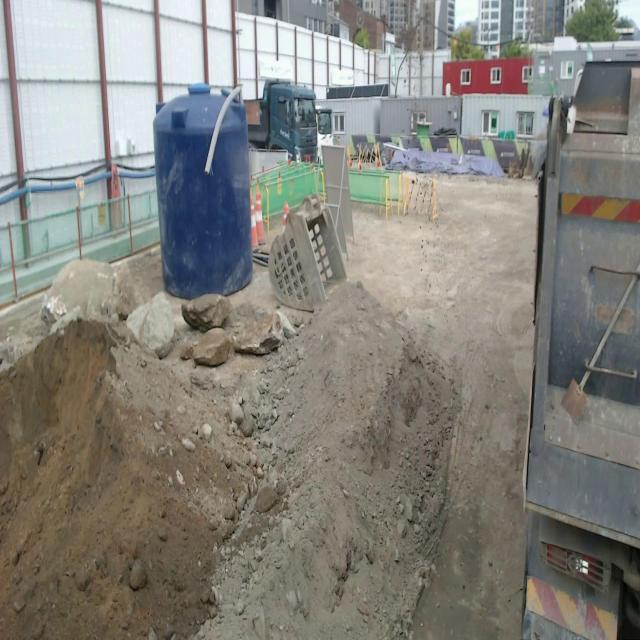stone: (40, 251, 162, 329), (126, 292, 174, 356), (231, 310, 285, 354), (181, 294, 232, 332), (192, 328, 232, 366)
white-sand: (0, 180, 536, 639)
